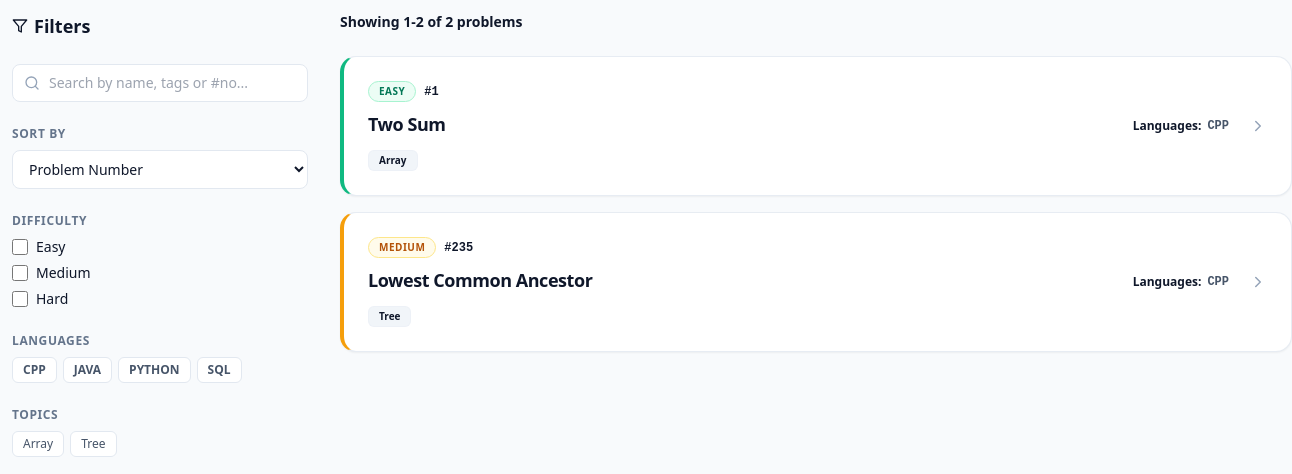
Scenario: ProblemsList UI Component Filter & Search › should filter problems based on difficulty checkbox toggle
The image size is (1292, 474).
// Toggle "Easy" filter
Click the checkbox labelled "Easy" at point(20, 247), box [12,239,28,255]
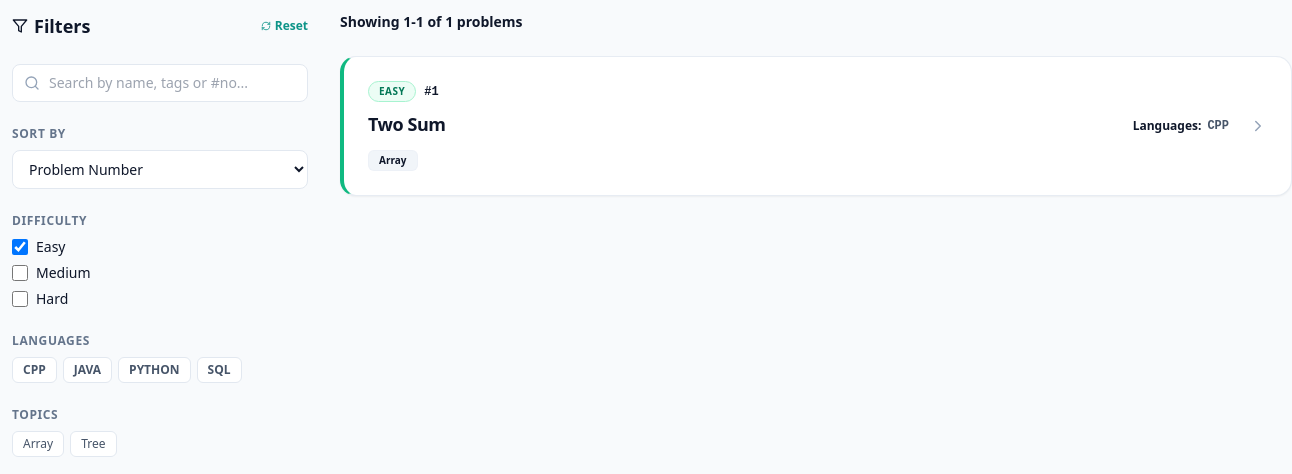
Expected: the heading "Two Sum" is shown, [368,110,446,138]
Expected: the link "Lowest Common Ancestor" is gone
